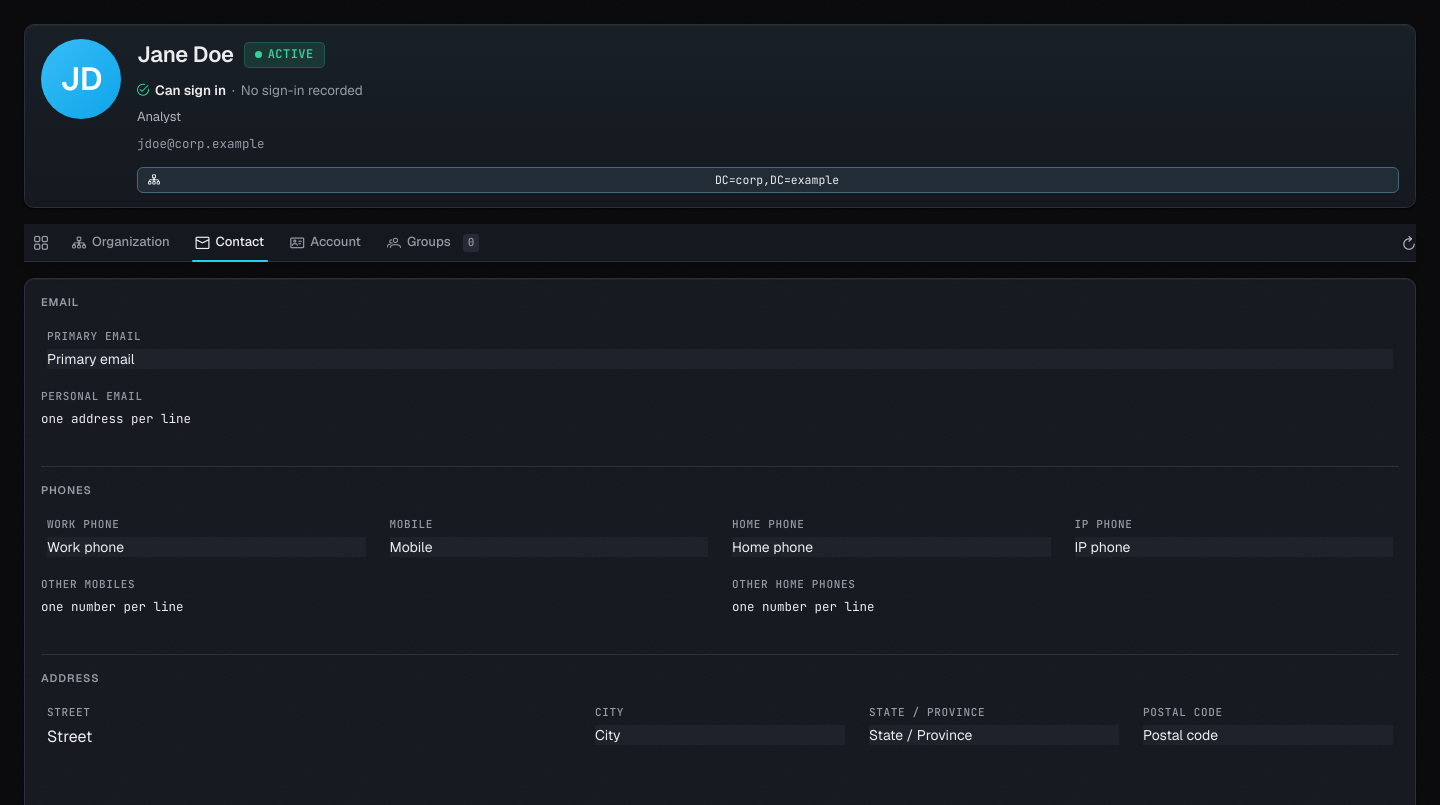
Test: editing a user without an elevated session › says why a value can’t be saved, and won’t save it
In the field with placeholder "Primary email": [720, 359] box x1=47 y1=349 x2=1393 y2=369, type "not an address"
(page scrolled)
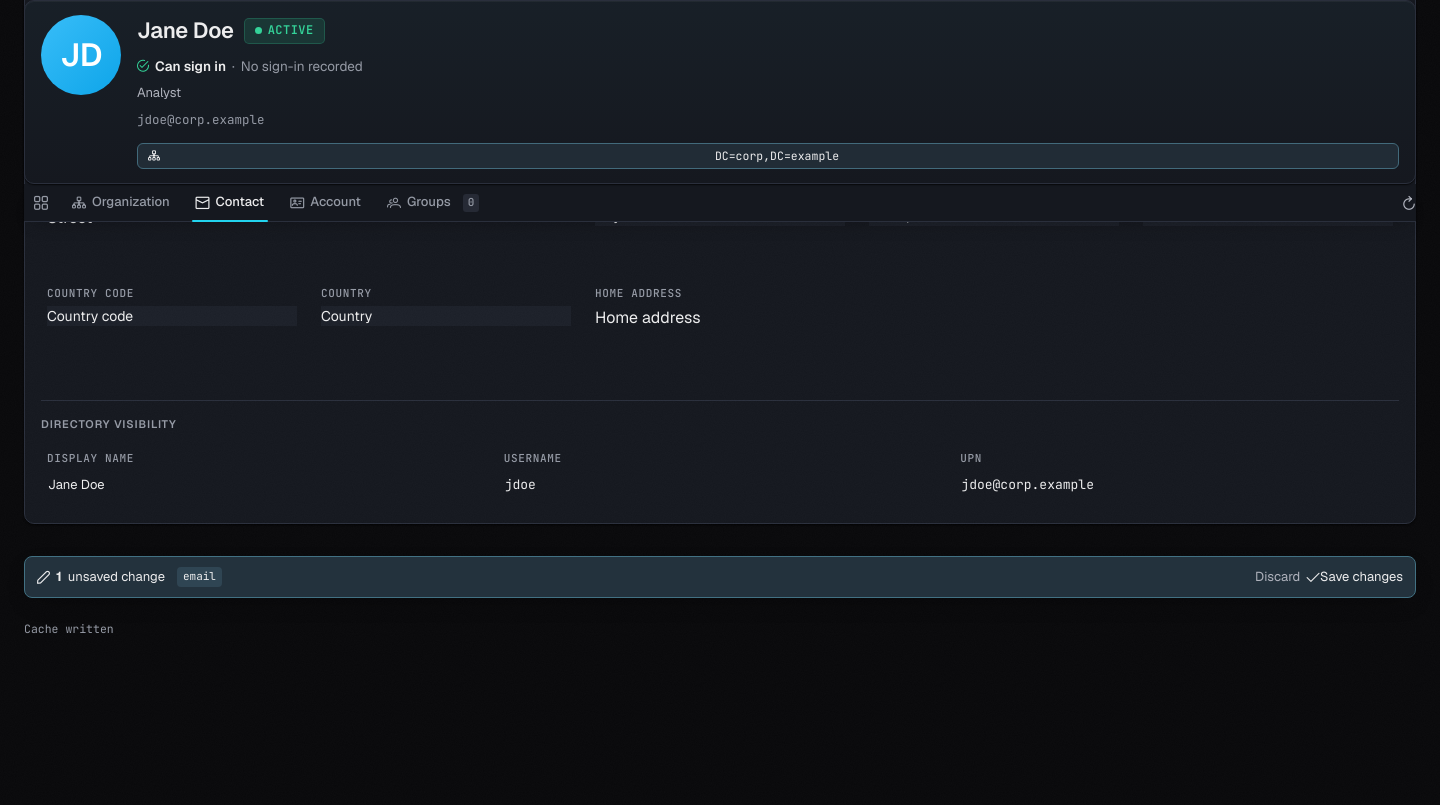
Expected: the button "Save changes" is disabled, x1=1306 y1=567 x2=1403 y2=586
